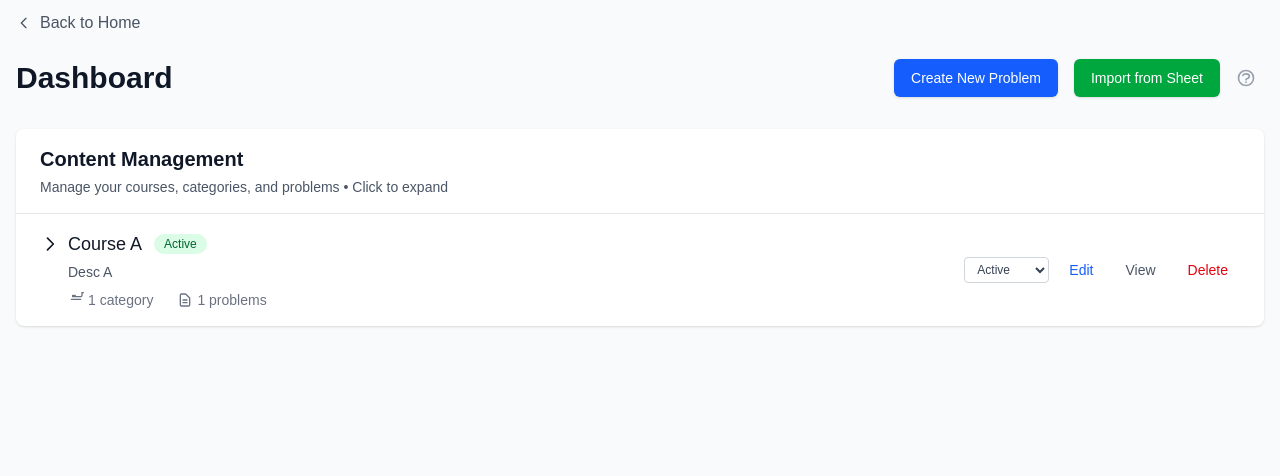
TeacherClient › expands a category and sees problems
Click the button "Course A" at coordinates (91, 244), box [40,230,142,258]
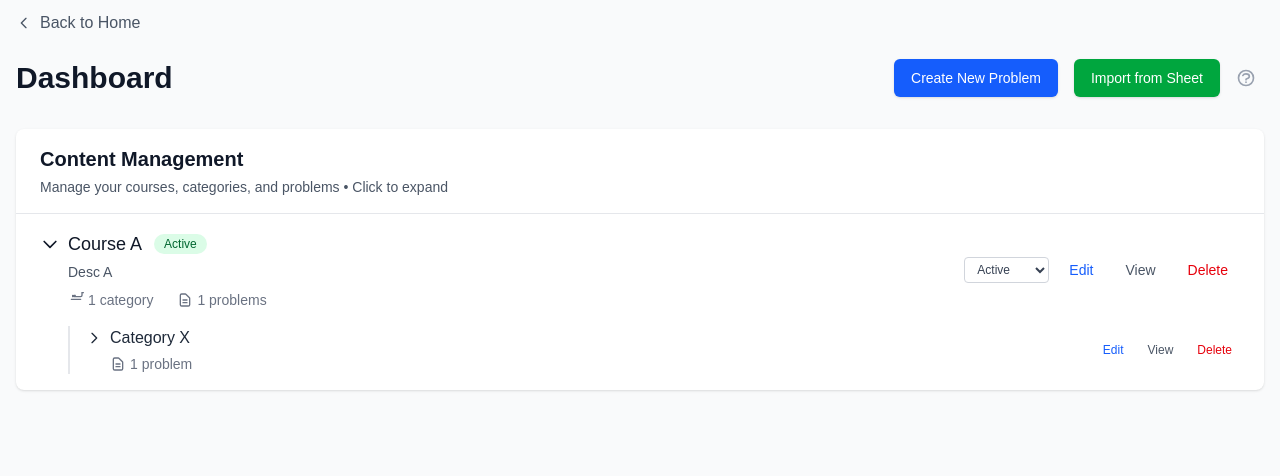
Click the button "Category X" at coordinates (138, 338), box [86,326,190,350]
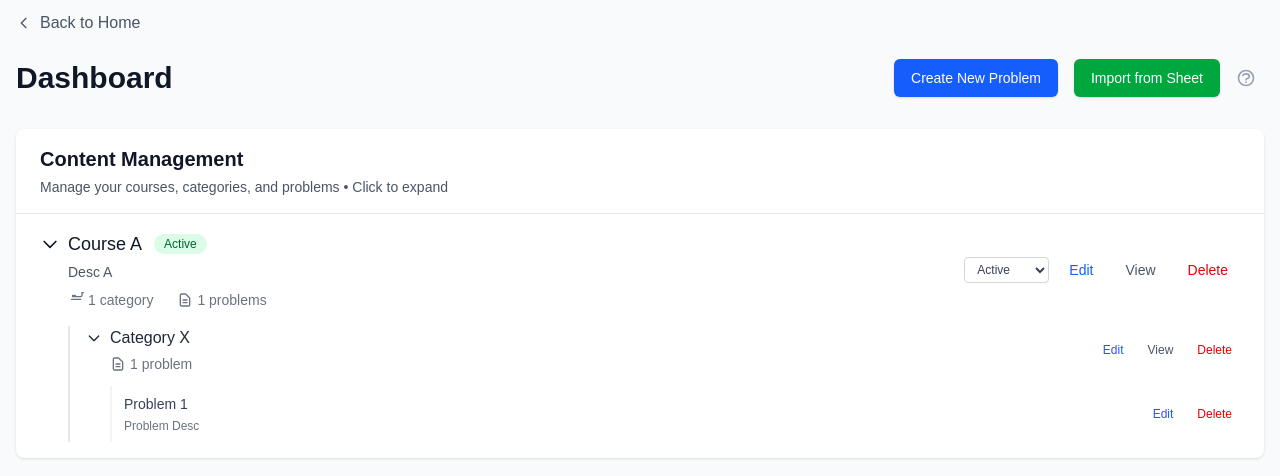
Check: the heading "Problem 1" is shown, box [124,396,188,412]
